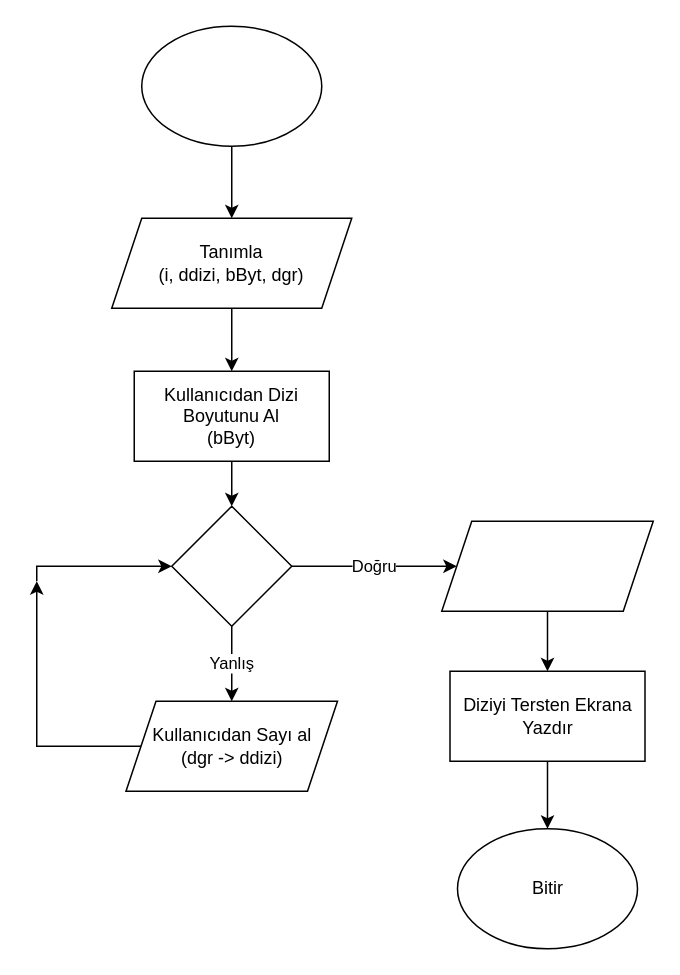
This 680x975 diagram has some shape labels left out. The shapes that lost their labels are listed below. From the top down, each one's box as (x1, y1, x2, y2) in pixels, then its label:
(140, 25, 322, 146): Başla
(170, 505, 292, 626): i < bByt
(440, 520, 653, 611): Diziyi Küçükten Büyüğe Sırala ( sort.Ints(dDizi) )
